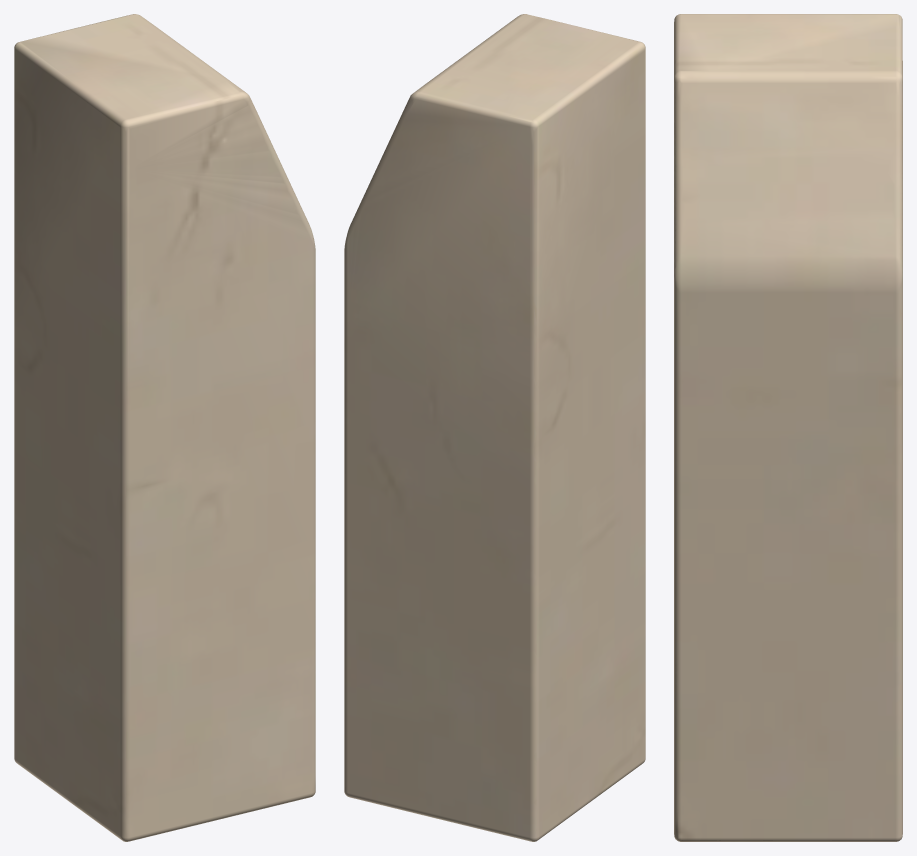
The model's file is strelec_bily.glb.
3 views of the same model, side by side, from view 1: azimuth 30°, elevation 25°; view 2: azimuth 150°, elevation 25°; view 3: azimuth 270°, elevation 25° (orthographic).
Visible parts, largest first — view 1: strelec_bily; view 2: strelec_bily; view 3: strelec_bily.
Boxes of the visible parts, box(x1,y1,x2,y2) form: strelec_bily: box(14, 14, 315, 841); strelec_bily: box(344, 14, 645, 841); strelec_bily: box(674, 14, 902, 841).
Size of the model in its own units: 0.024 by 0.0852 by 0.024.
1 material, 1 textured.
